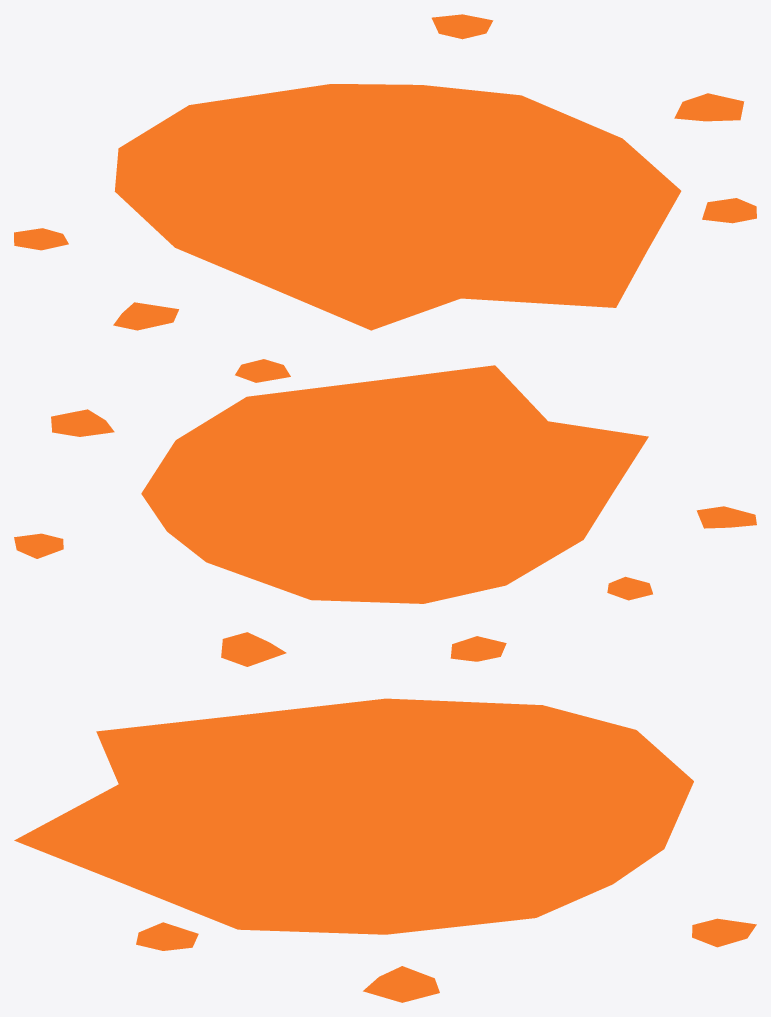
Rendered from burn_puddle.glb.
3 renders of one model, top to bottom at view 1: azimuth 30°, elevation 25°; view 2: azimuth 150°, elevation 25°; view 3: azimuth 270°, elevation 25°, orthographic. The views are drawn at different scales.
Parts seen in each view (by area): view 1: burn_puddle; view 2: burn_puddle; view 3: burn_puddle.
Part boxes in pixels (x1,y1,x2,y2): burn_puddle: (14,14,756,330); burn_puddle: (14,359,756,603); burn_puddle: (14,632,756,1002).
Bounding box in the file's own units: 1.15 × 0 × 0.9713.
